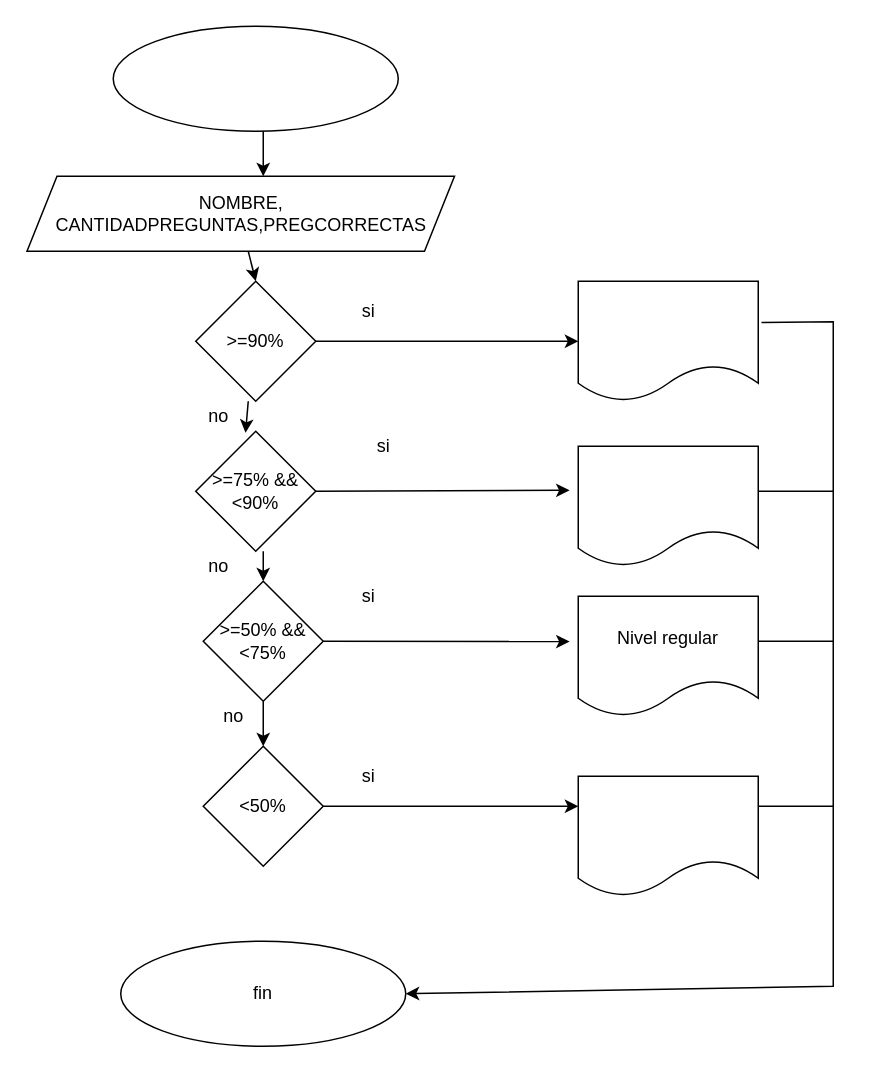
This 872x1073 diagram has some shape labels left out. Here are the shapes that lost their labels. From the top down, the centre of each, then its label:
At point (255, 78): "inicio".
At point (667, 340): "Nivel superior".
At point (667, 505): "Nivel medio".
At point (667, 835): "Fuera de nivel".
